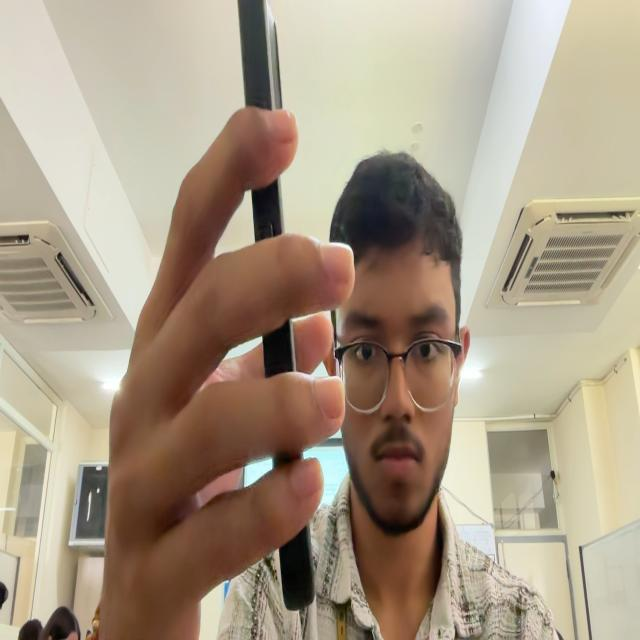Useful: (238, 0, 282, 111), (279, 521, 315, 610), (252, 179, 284, 242), (263, 318, 297, 377), (273, 449, 302, 468)
